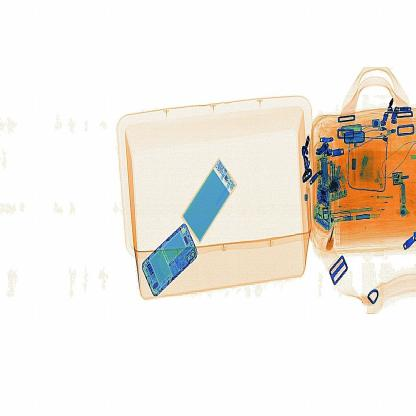wrench: (326, 219, 344, 260)
